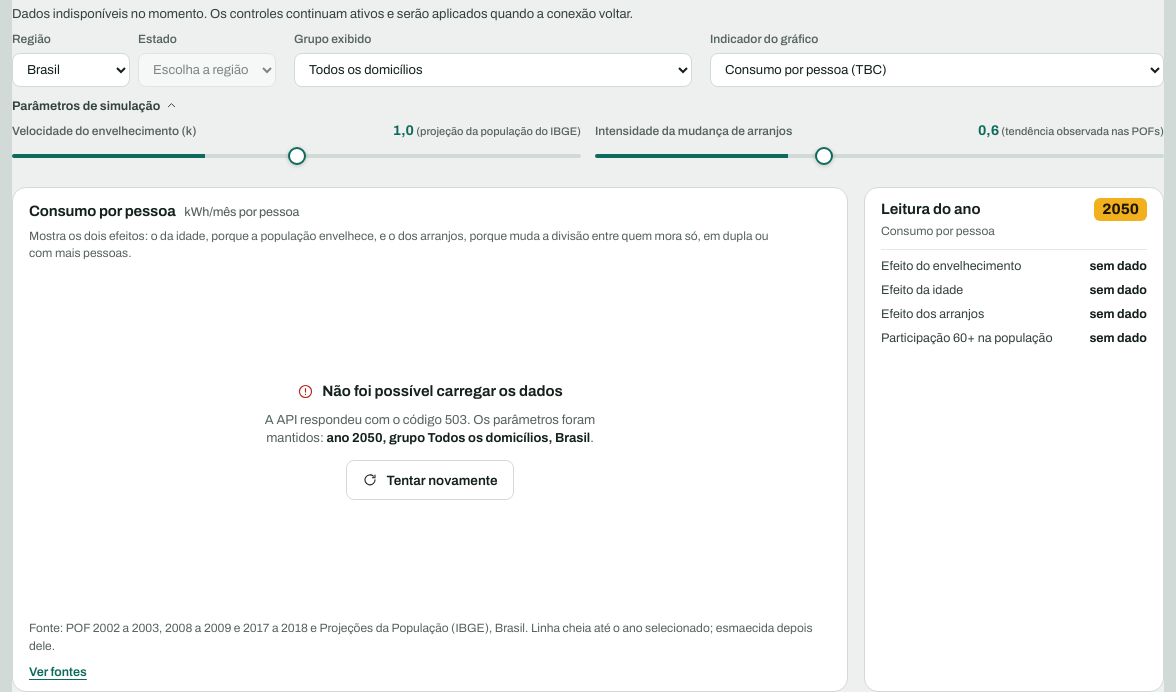
Panorama › mostra o erro no contexto, preserva os parâmetros e permite tentar de novo
Expected: the message shows "ano 2050, grupo Todos os domicílios", [326,432,590,446]
Click the button "Tentar novamente": click(430, 480) [346,460,514,500]
(page scrolled)
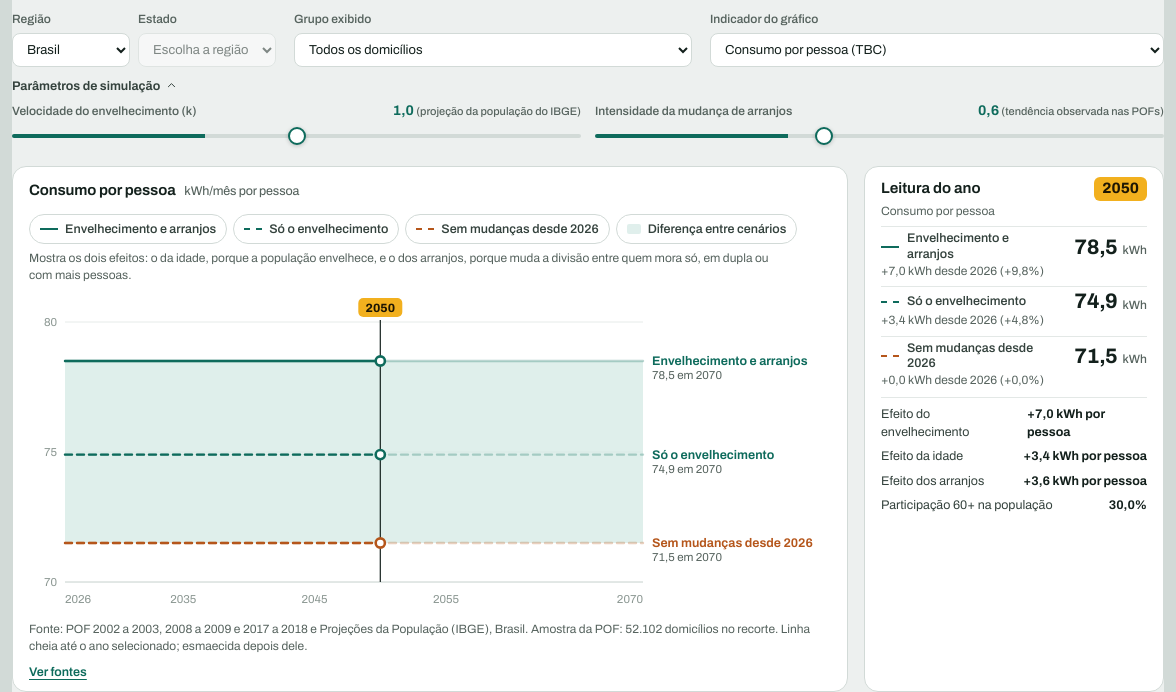
Now the message is gone
